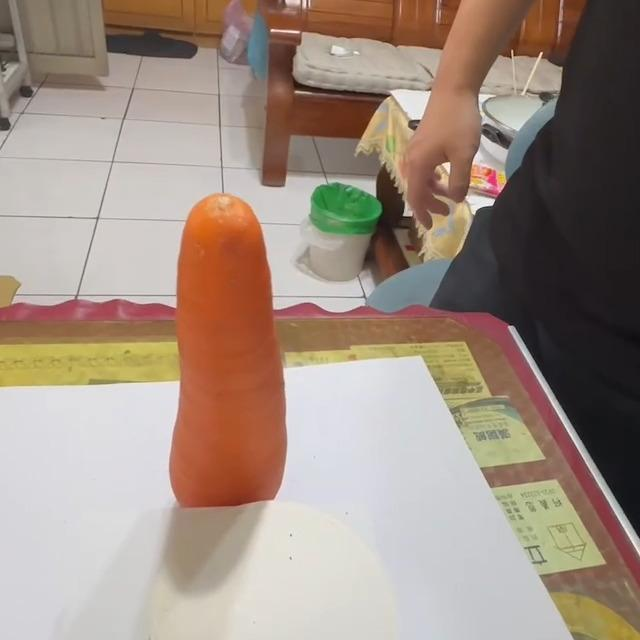carrot: (165, 193, 291, 516)
